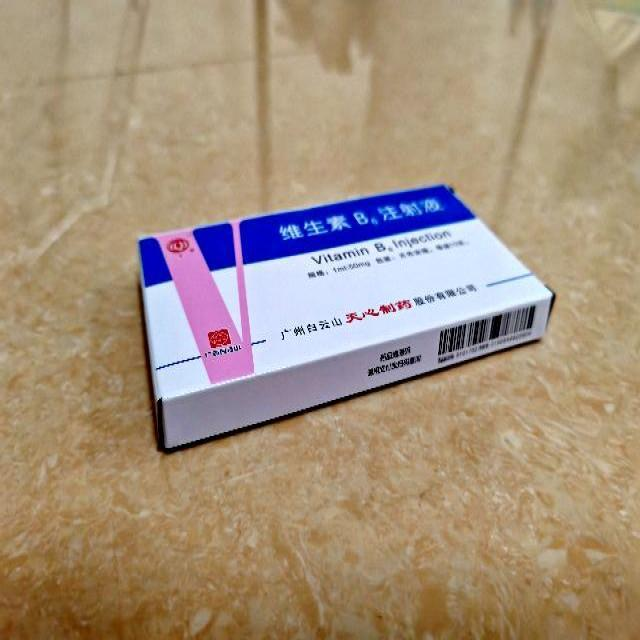box: (136, 186, 554, 452)
